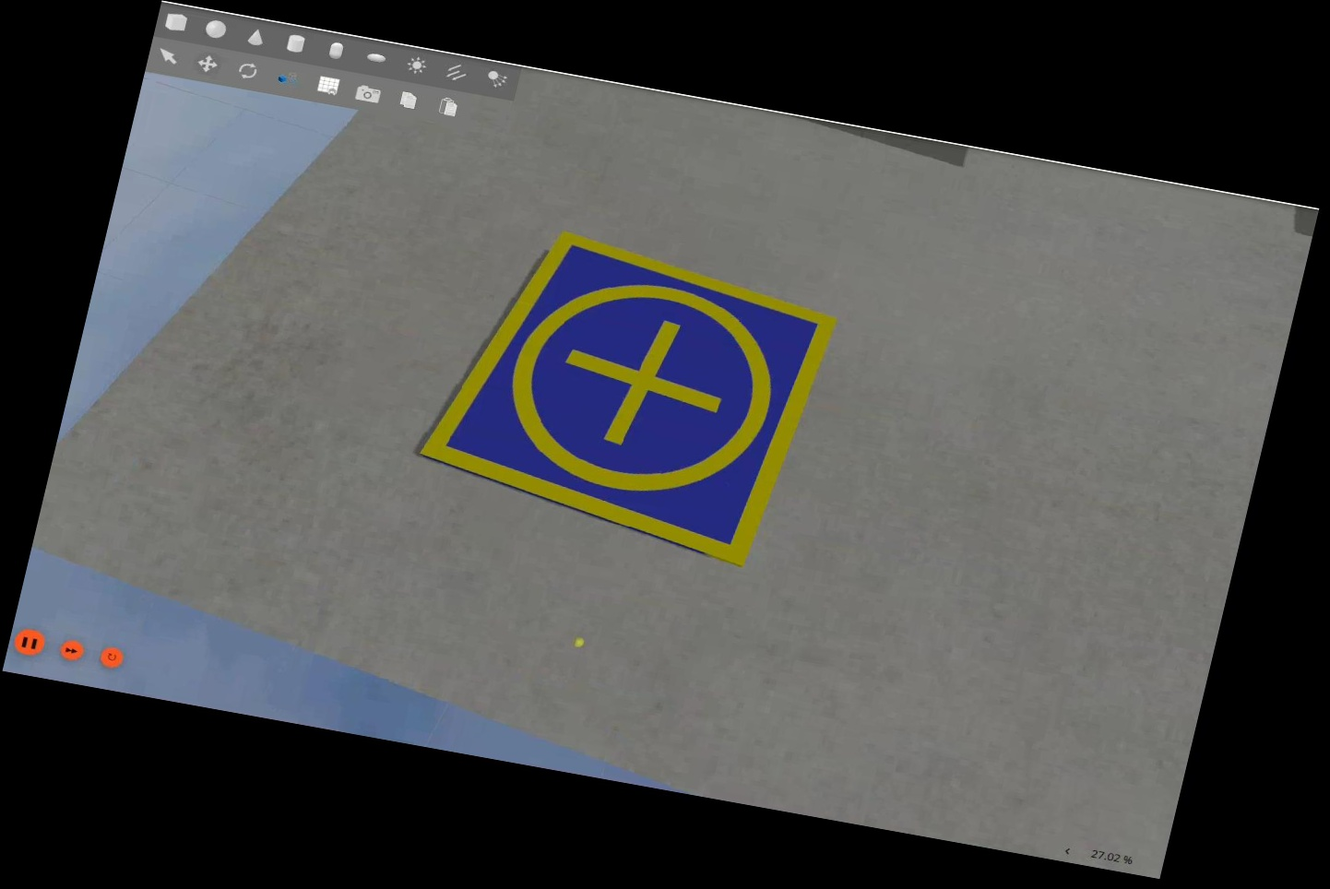small_base: (404, 213, 849, 577)
